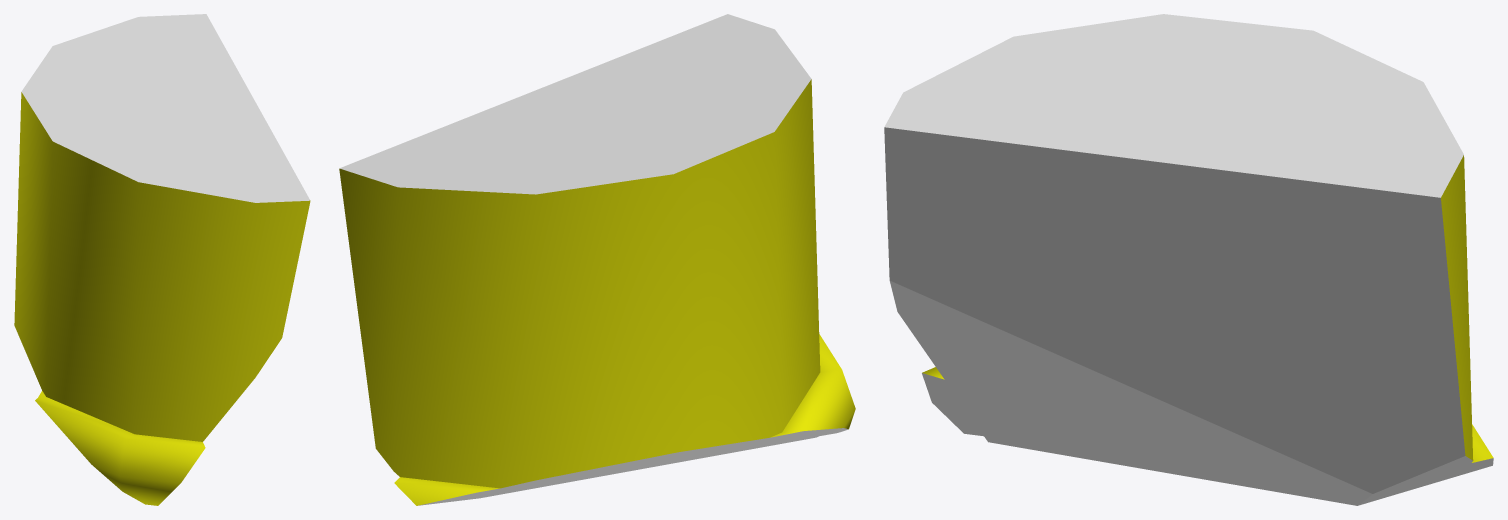
The model's file is mdl_ciudadela_casa_pilar1_fracturepart10.fbx.
3 views of the same model, side by side, from view 1: azimuth 30°, elevation 25°; view 2: azimuth 150°, elevation 25°; view 3: azimuth 270°, elevation 25° (orthographic). The views are drawn at different scales.
Visible parts, largest first — view 1: mdl_ciudadela_casa_pilar1_fracturepart10; view 2: mdl_ciudadela_casa_pilar1_fracturepart10; view 3: mdl_ciudadela_casa_pilar1_fracturepart10.
Part boxes in pixels (bbox=[...]): mdl_ciudadela_casa_pilar1_fracturepart10: bbox=[14, 14, 310, 505]; mdl_ciudadela_casa_pilar1_fracturepart10: bbox=[339, 14, 855, 505]; mdl_ciudadela_casa_pilar1_fracturepart10: bbox=[884, 14, 1493, 505].
Size of the model in its own units: 0.5837 by 0.6276 by 0.8499.
